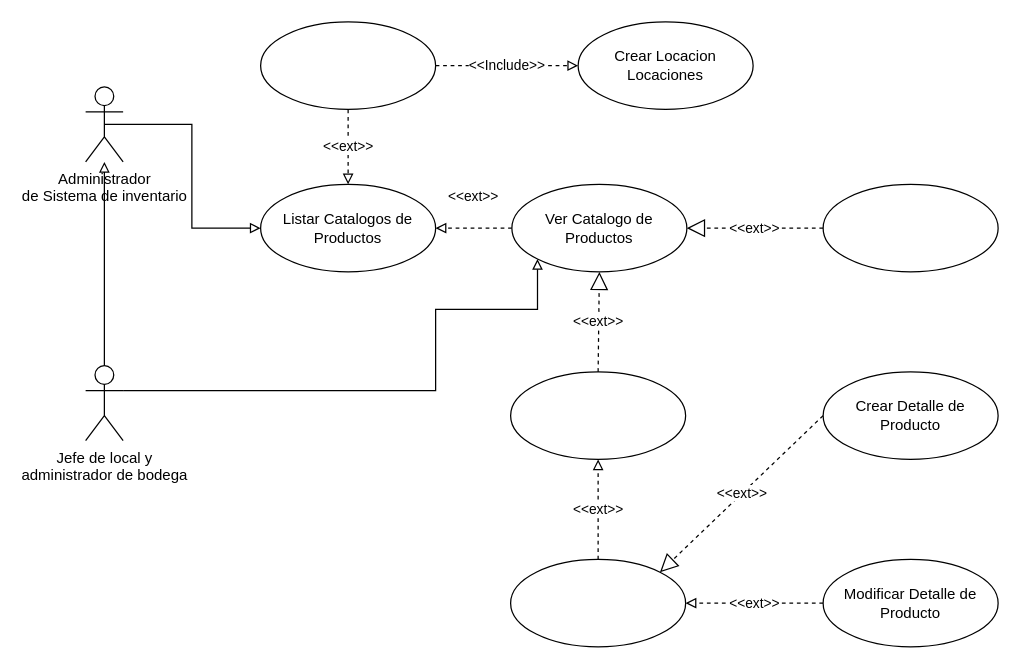
The diagram is 1020 pixels wide and 669 high, and some of its shapes have lost their labels. Here are the shapes that lost their labels. From the top down, the centre of each, then its label:
[347,65]: Crear Catalogos de Productos
[910,227]: Crear Productos
[597,415]: Seleccionar Producto
[597,602]: listar detalles de Producto
